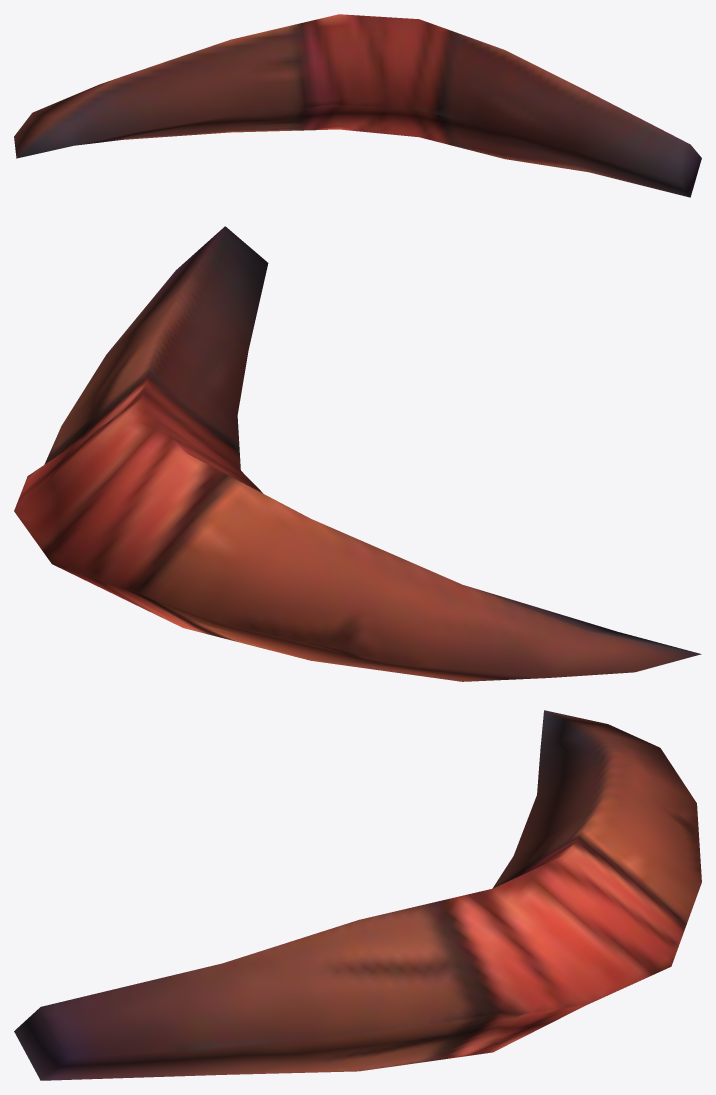
The model's file is feibiao.FBX.
3 views of the same model, one above another, from view 1: azimuth 30°, elevation 25°; view 2: azimuth 150°, elevation 25°; view 3: azimuth 270°, elevation 25° (orthographic). The views are drawn at different scales.
Parts seen in each view (by area): view 1: huixuanbiao; view 2: huixuanbiao; view 3: huixuanbiao.
Boxes of the visible parts, left/top/right/bottom form: huixuanbiao: left=14, top=14, right=701, bottom=197; huixuanbiao: left=14, top=226, right=701, bottom=681; huixuanbiao: left=14, top=710, right=701, bottom=1080.
Bounding box in the file's own units: 45.18 × 9.91 × 37.69.
